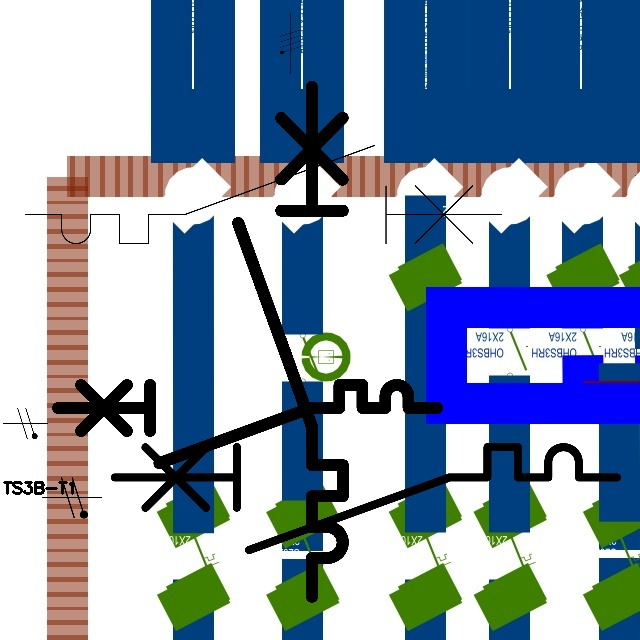interruptor_termomagnetico: (225, 73, 356, 609), (101, 434, 629, 563), (13, 133, 514, 256), (48, 375, 447, 472)
